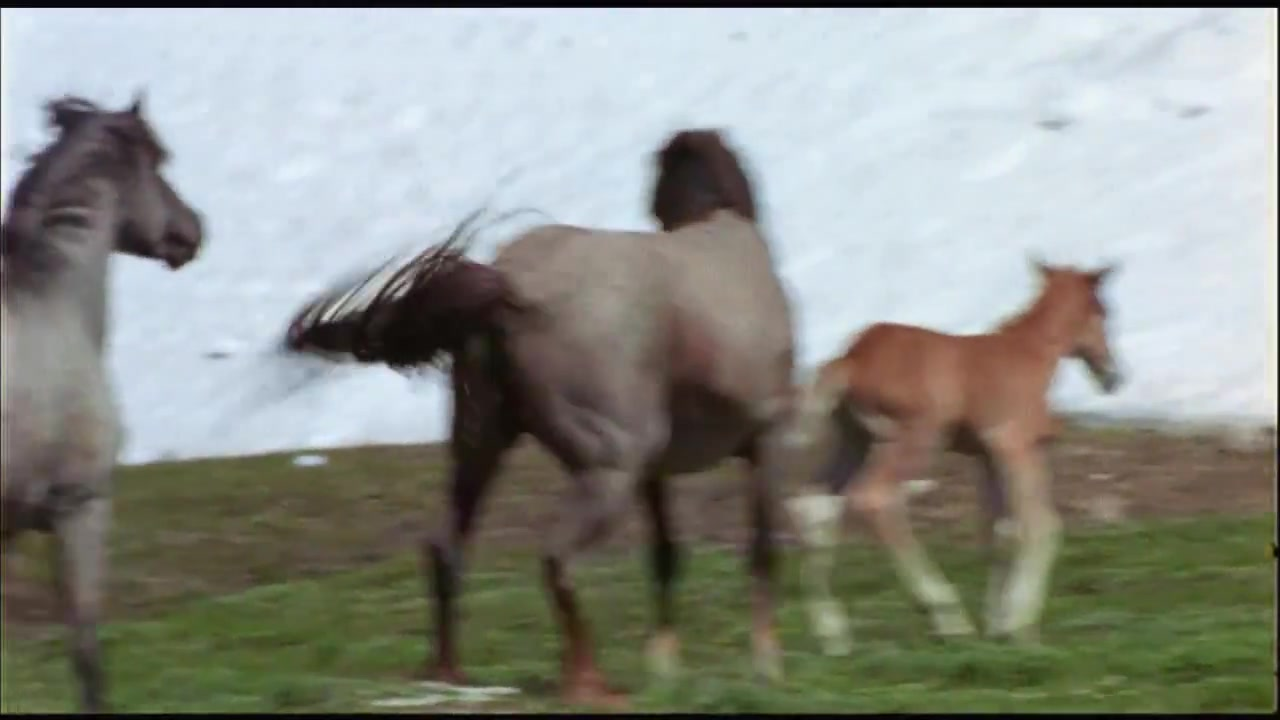horse: (285, 128, 801, 707)
